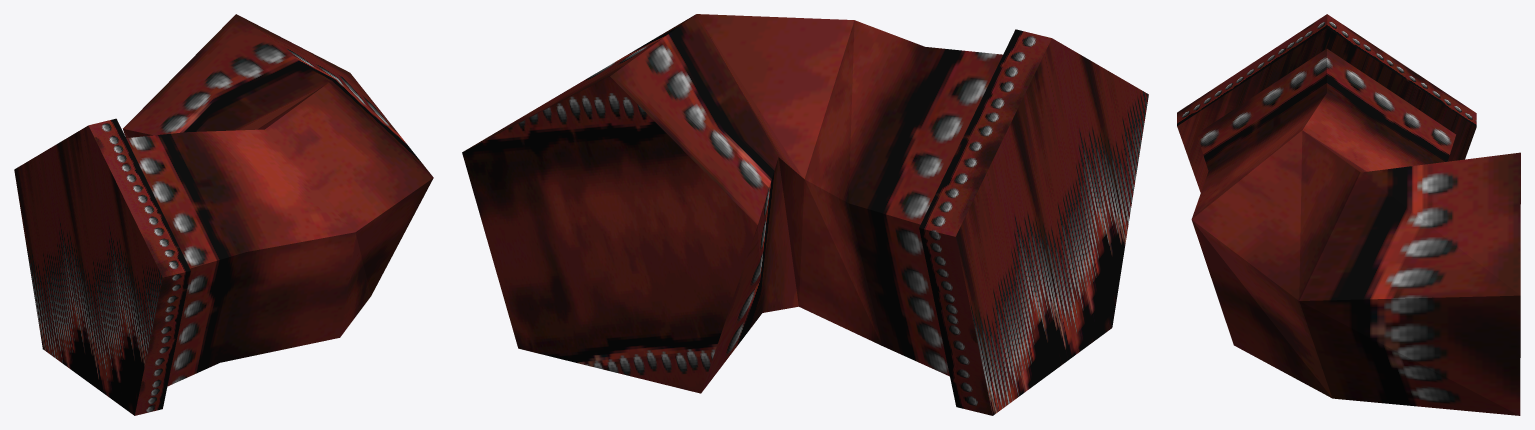
The model's file is Rohr_StückKurveGedreht [Rot]_1822.glb.
3 views of the same model, side by side, from view 1: azimuth 30°, elevation 25°; view 2: azimuth 150°, elevation 25°; view 3: azimuth 270°, elevation 25° (orthographic). The views are drawn at different scales.
Parts seen in each view (by area): view 1: pCylinderShape79, pCylinderShape78; view 2: pCylinderShape79, pCylinderShape78; view 3: pCylinderShape79, pCylinderShape78.
Boxes of the visible parts, box(x1,y1,x2,y2) form: pCylinderShape79: box(123, 14, 433, 386); pCylinderShape78: box(14, 118, 190, 415); pCylinderShape79: box(462, 14, 1002, 393); pCylinderShape78: box(919, 29, 1148, 415); pCylinderShape79: box(1191, 48, 1520, 415); pCylinderShape78: box(1177, 14, 1476, 192).
Size of the model in its own units: 1.11 by 0.7657 by 0.9207.
2 materials, 2 textured.
